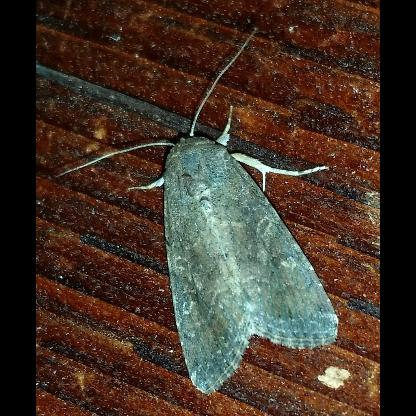Fall Armyworm Moth: (54, 26, 342, 400)
